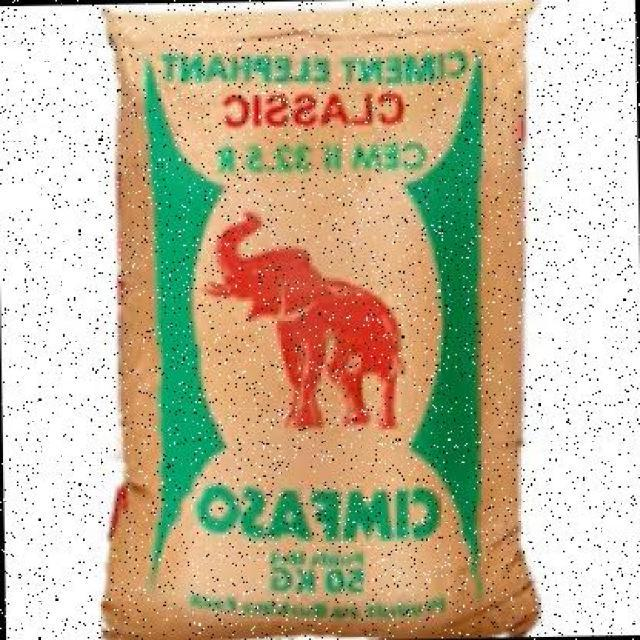gunny_bag: (99, 0, 539, 640)
